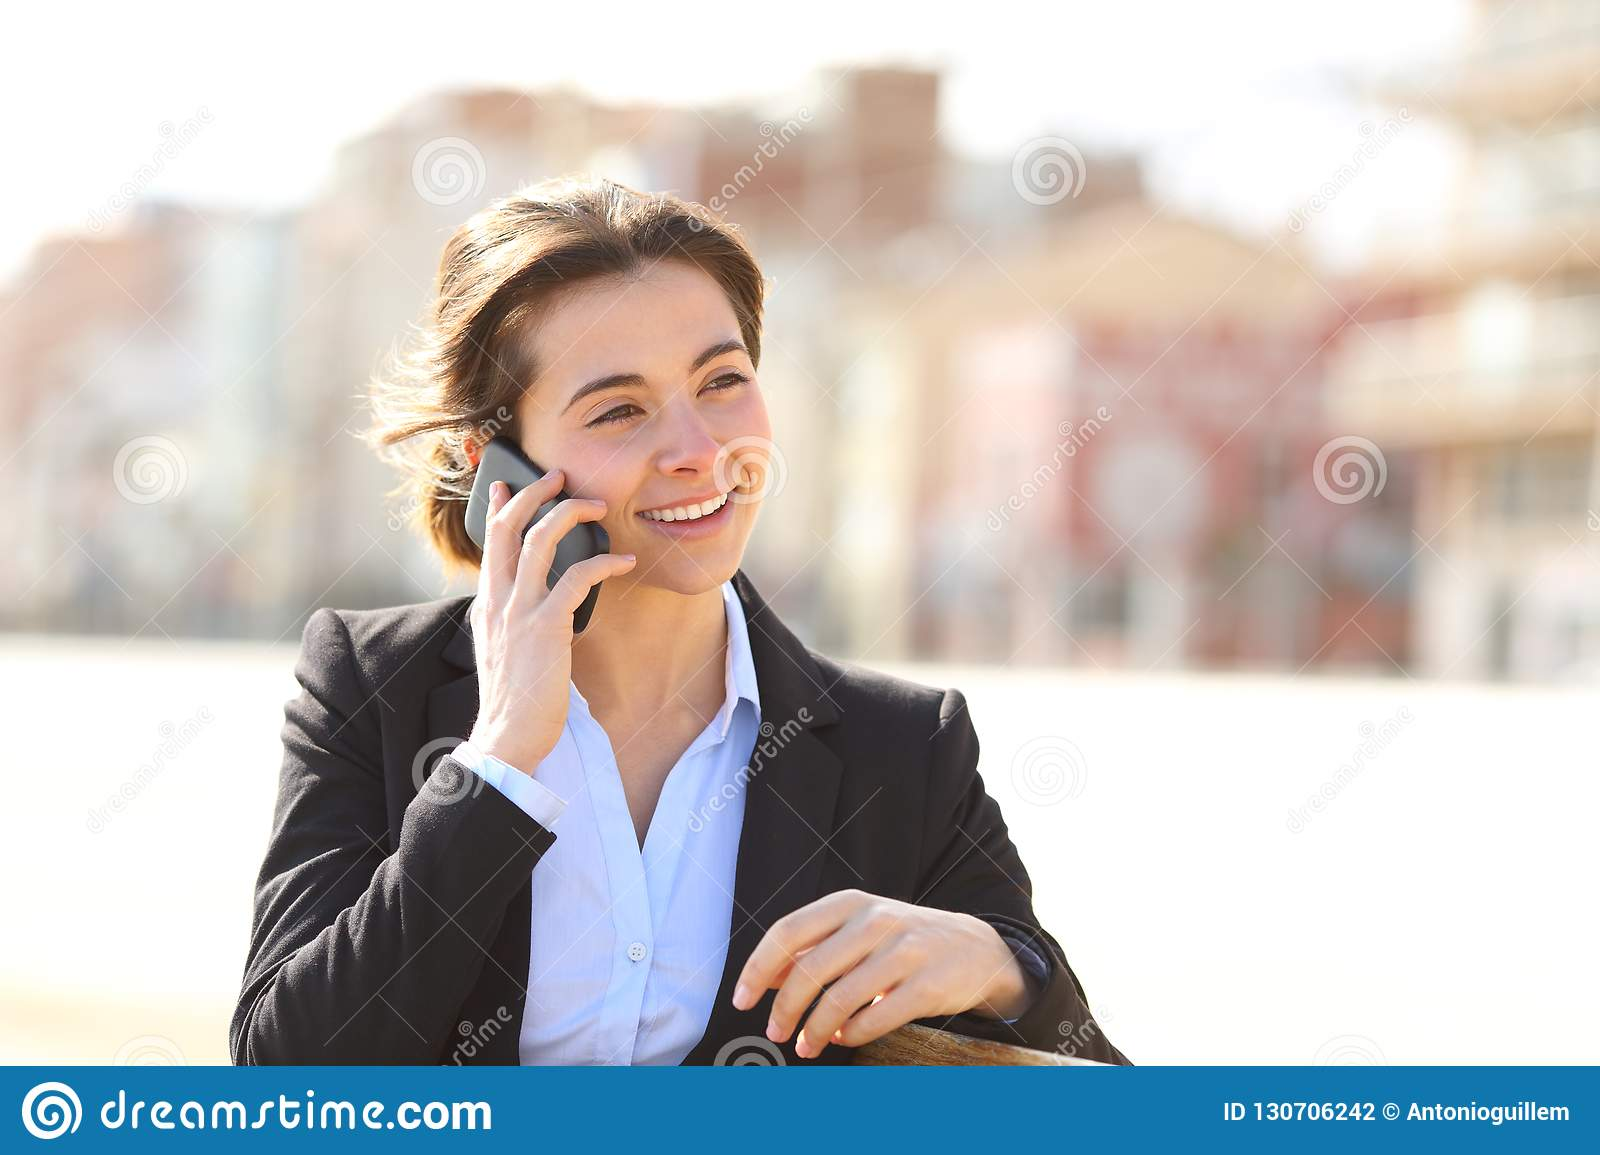phone: (463, 432, 607, 641)
talk: (465, 322, 764, 764)
